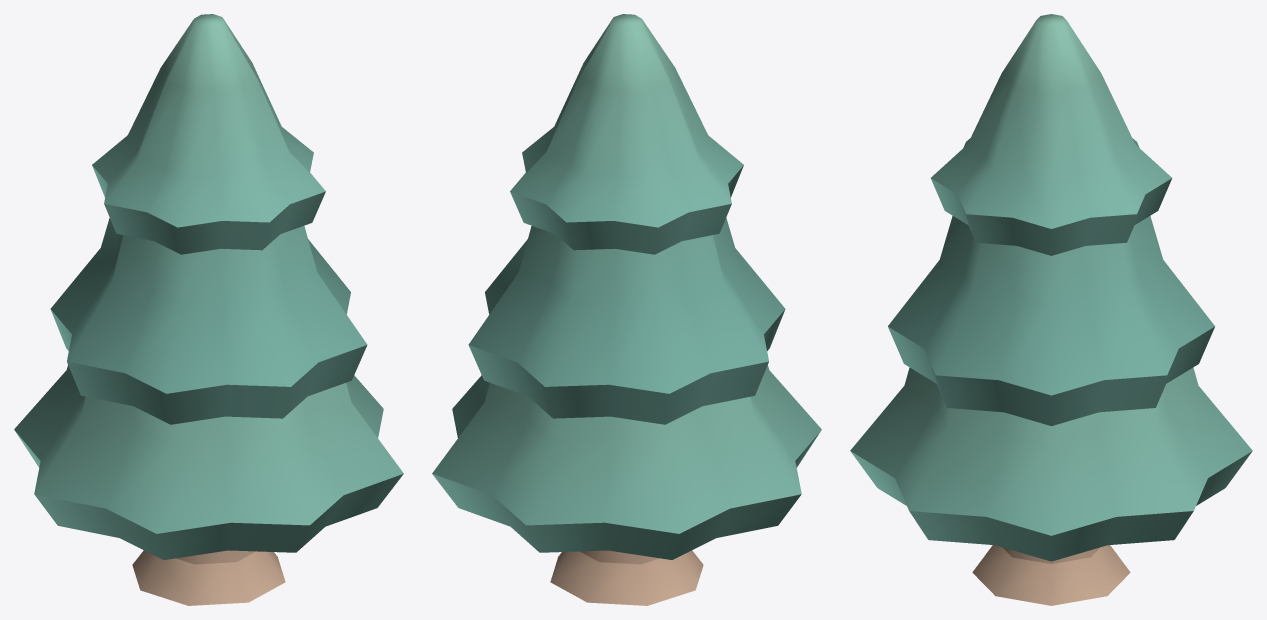
File: tree-christmas.glb
3 views of the same model, side by side, from view 1: azimuth 30°, elevation 25°; view 2: azimuth 150°, elevation 25°; view 3: azimuth 270°, elevation 25° (orthographic).
Parts seen in each view (by area): view 1: tree-christmas; view 2: tree-christmas; view 3: tree-christmas.
Part boxes in pixels (left/top/right/bottom): tree-christmas: left=14, top=14, right=403, bottom=605; tree-christmas: left=432, top=14, right=821, bottom=605; tree-christmas: left=850, top=14, right=1252, bottom=605.
Size of the model in its own units: 1.27 by 1.93 by 1.27.
